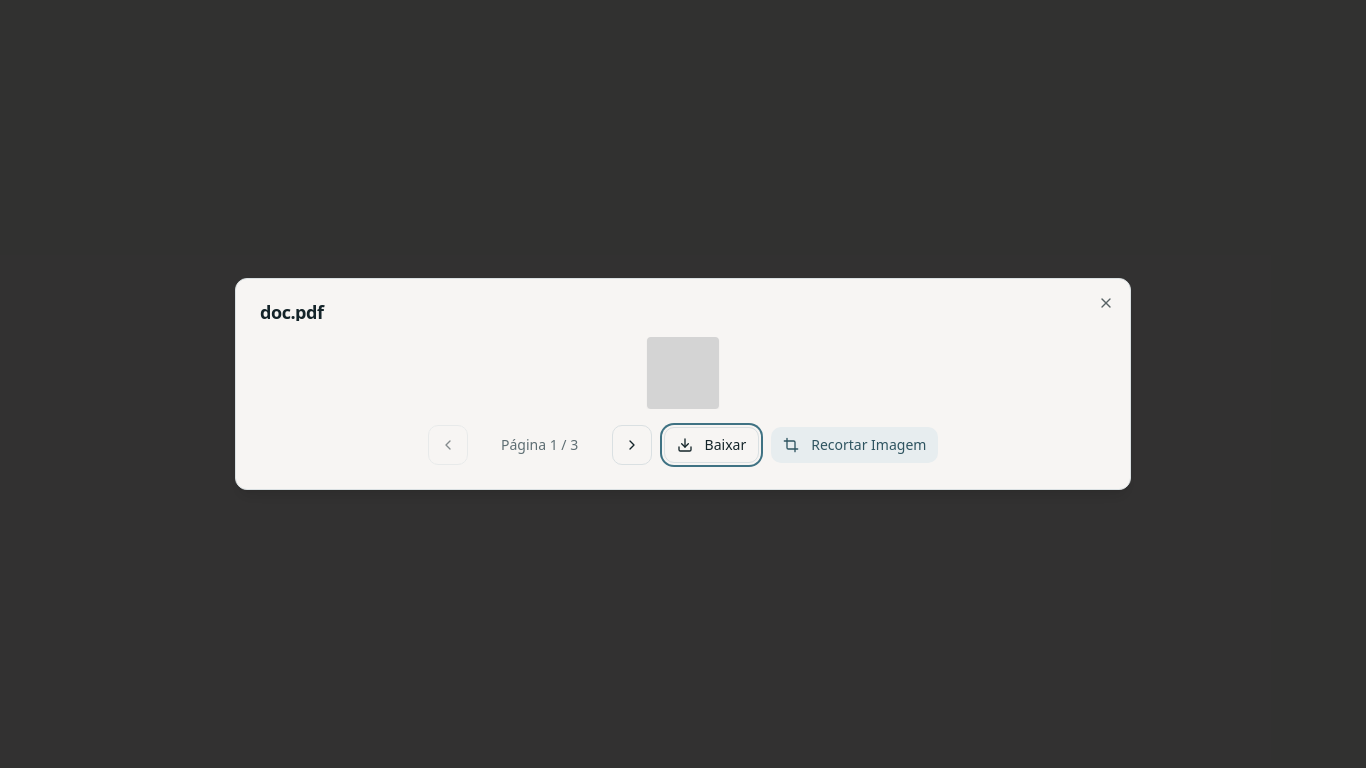
Test: PdfPreviewModal › getCropRect returns null when cropStart is set but cropEnd equals start (covers !cropStart branch)
Step 1. Click the button "Recortar Imagem" → [855, 445], box x1=771 y1=427 x2=938 y2=463
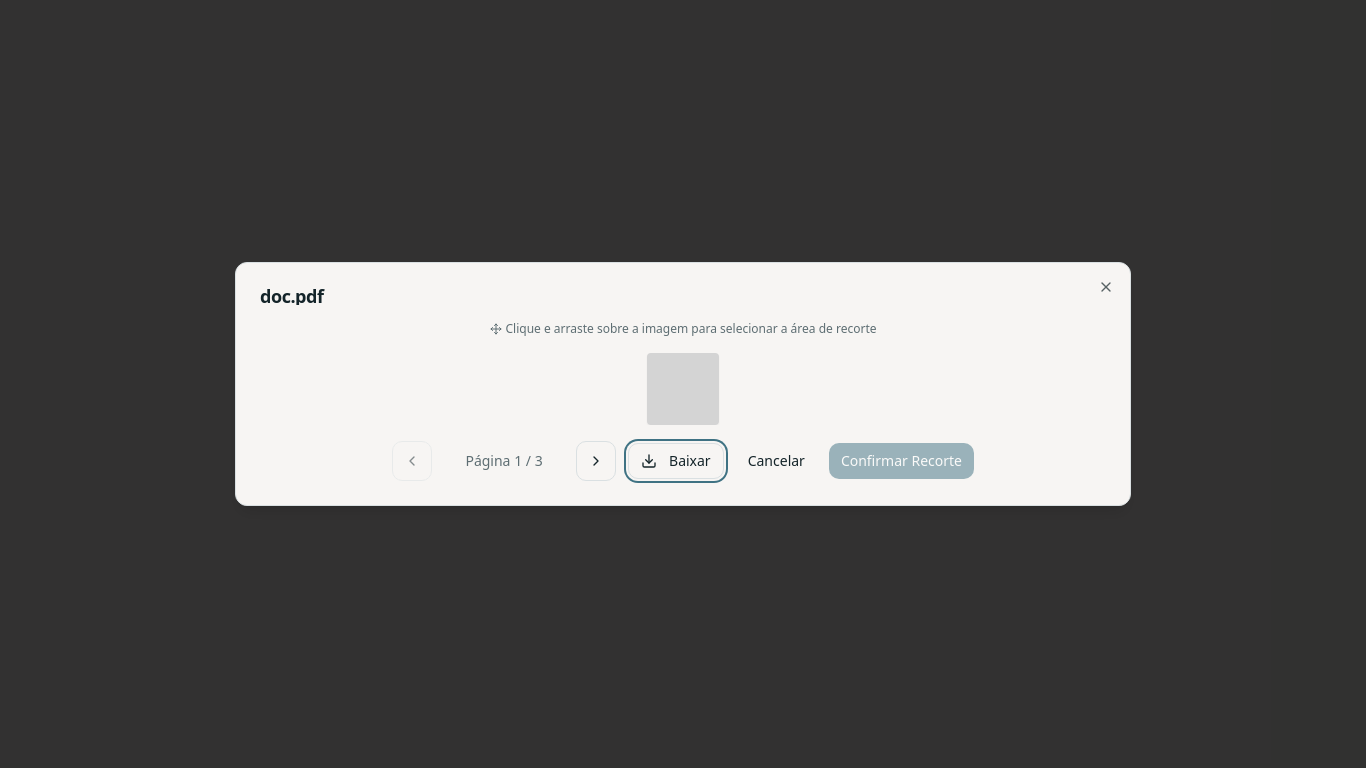
Now the button "Confirmar Recorte" is disabled, box x1=829 y1=443 x2=974 y2=479
